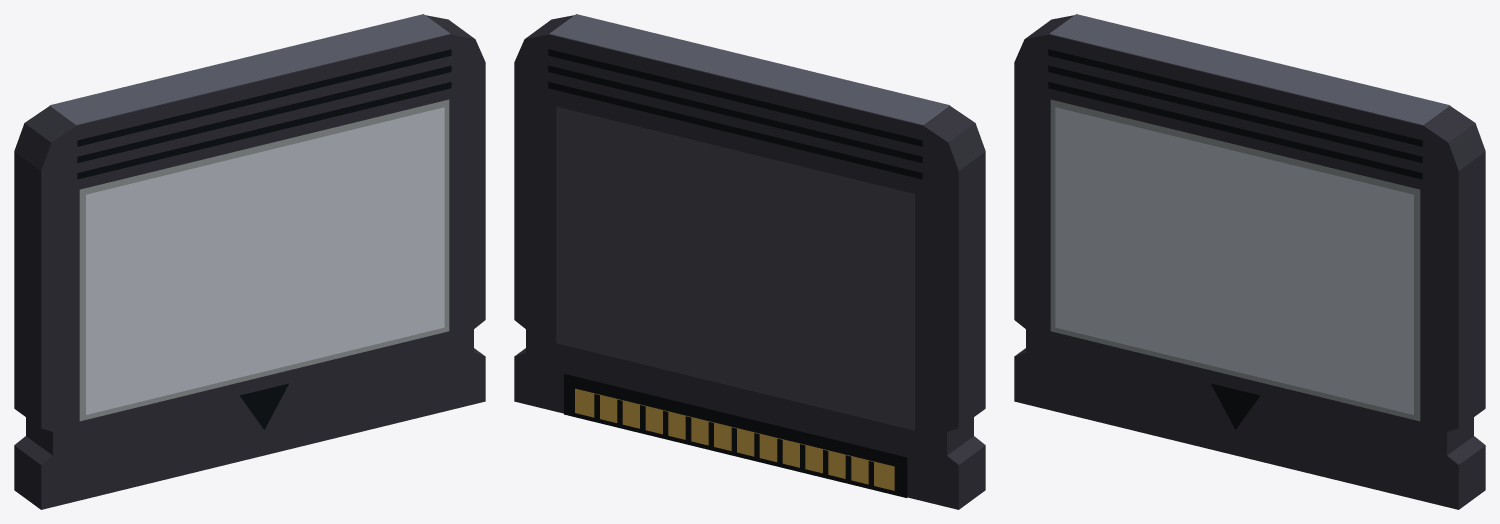
Rendered from ngp.obj.
3 views of the same model, side by side, from view 1: azimuth 30°, elevation 25°; view 2: azimuth 150°, elevation 25°; view 3: azimuth 330°, elevation 25° (orthographic).
Parts seen in each view (by area): view 1: ngp; view 2: ngp; view 3: ngp.
Part boxes in pixels (x1,y1,x2,y2): ngp: (14,14,485,509); ngp: (514,14,985,509); ngp: (1014,14,1485,509).
Size of the model in its own units: 5.7 by 4.61 by 0.69.
